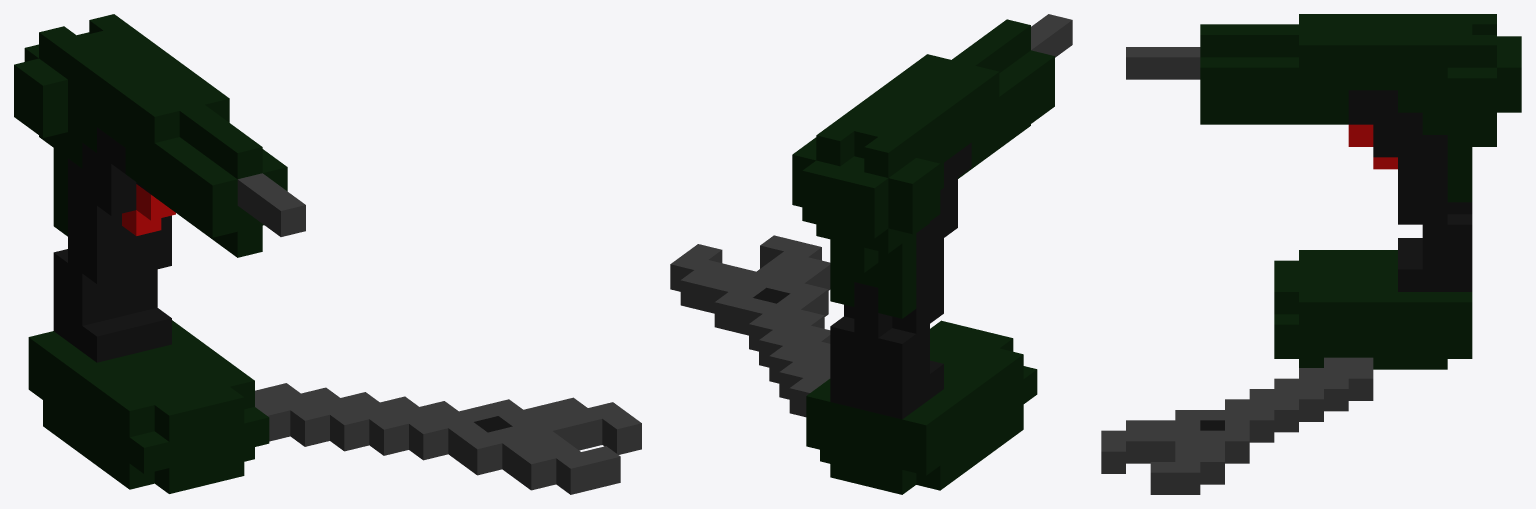
The model's file is tools.glb.
3 views of the same model, side by side, from view 1: azimuth 30°, elevation 25°; view 2: azimuth 150°, elevation 25°; view 3: azimuth 270°, elevation 25° (orthographic). The views are drawn at different scales.
Parts seen in each view (by area): view 1: model; view 2: model; view 3: model.
Part boxes in pixels (x1,y1,x2,y2): model: [14, 14, 641, 494]; model: [670, 14, 1072, 494]; model: [1101, 14, 1521, 494].
Size of the model in its own units: 1.7 by 1.4 by 1.7.
